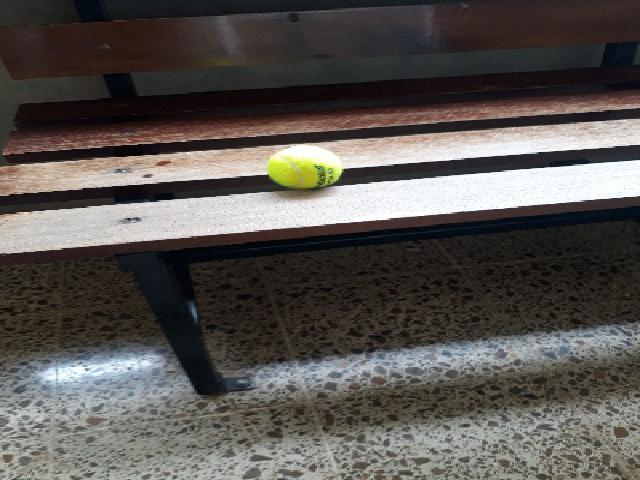Ball: (266, 144, 342, 190)
